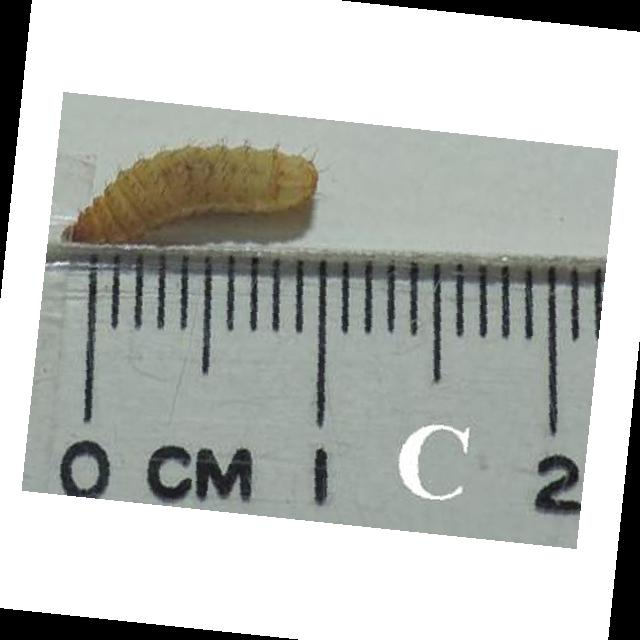Maggot: (63, 144, 325, 252)
